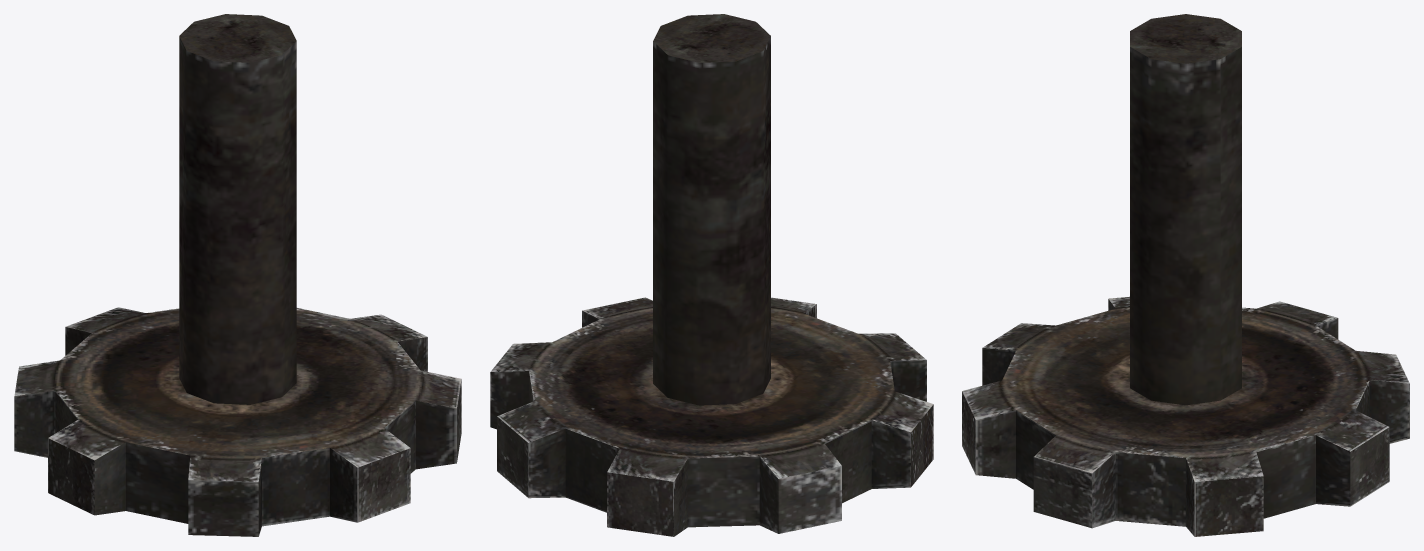
Rendered from ceiling_machinery_cog_interact.dae.
3 views of the same model, side by side, from view 1: azimuth 30°, elevation 25°; view 2: azimuth 150°, elevation 25°; view 3: azimuth 270°, elevation 25° (orthographic).
Visible parts, largest first — view 1: cog_interact, pole; view 2: cog_interact, pole; view 3: cog_interact, pole.
Part boxes in pixels (left/top/right/bottom): cog_interact: left=14, top=307, right=461, bottom=536; pole: left=179, top=14, right=296, bottom=404; cog_interact: left=490, top=297, right=933, bottom=536; pole: left=653, top=14, right=770, bottom=405; cog_interact: left=962, top=296, right=1409, bottom=536; pole: left=1130, top=14, right=1241, bottom=405.
Bounding box in the file's own units: 0.935 × 0.9447 × 0.935.
